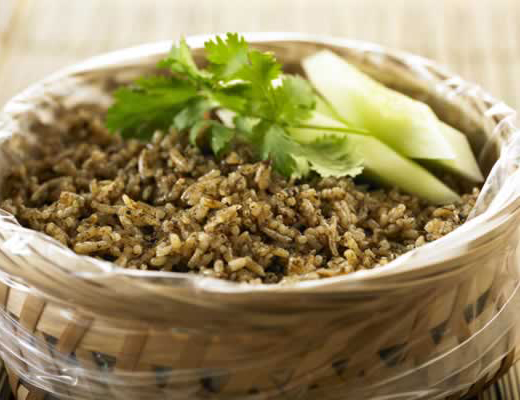plain rice: (119, 182, 311, 264)
